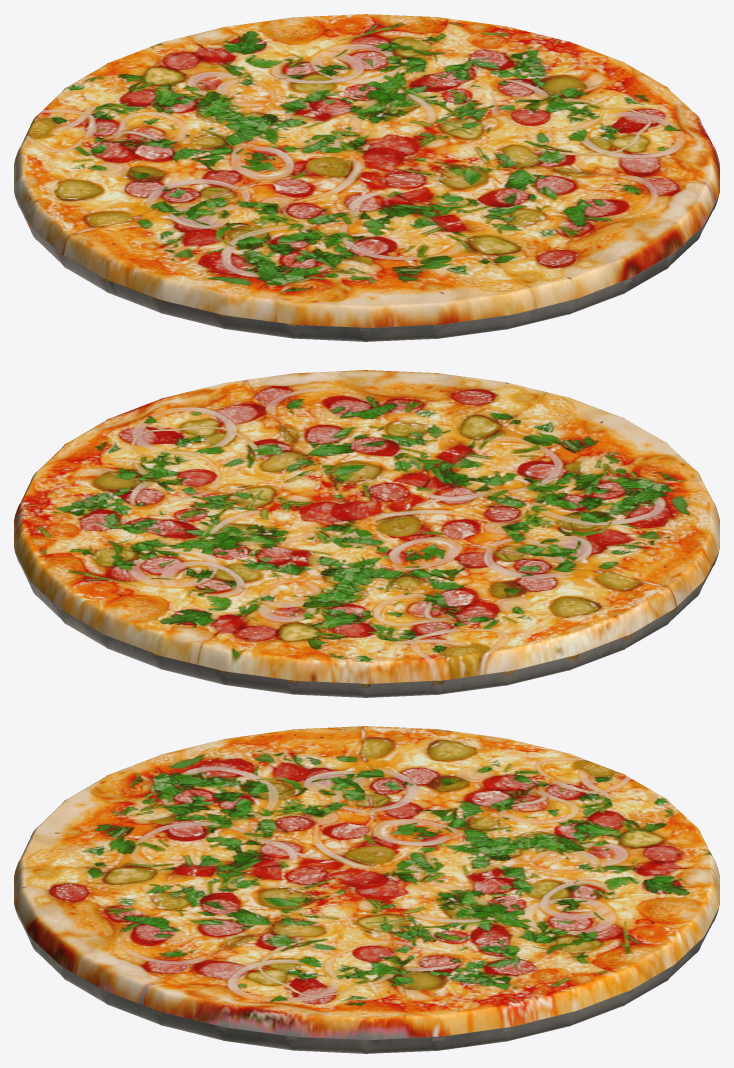
The model's file is Pizza.fbx.
The picture shows the model from 3 angles, top to bottom: view 1: azimuth 30°, elevation 25°; view 2: azimuth 150°, elevation 25°; view 3: azimuth 270°, elevation 25°; orthographic projection.
Visible parts, largest first — view 1: pizza; view 2: pizza; view 3: pizza.
Boxes of the visible parts, x1,y1,x2,y2 form: pizza: (14, 14, 719, 341); pizza: (14, 370, 719, 697); pizza: (14, 726, 719, 1053).
Size of the model in its own units: 35.96 by 2 by 35.8.
1 material, 1 textured.
